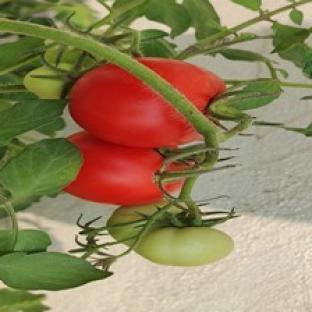Tomato: (69, 63, 199, 147), (65, 131, 164, 206), (136, 228, 233, 266), (108, 201, 168, 245), (24, 66, 64, 98)
